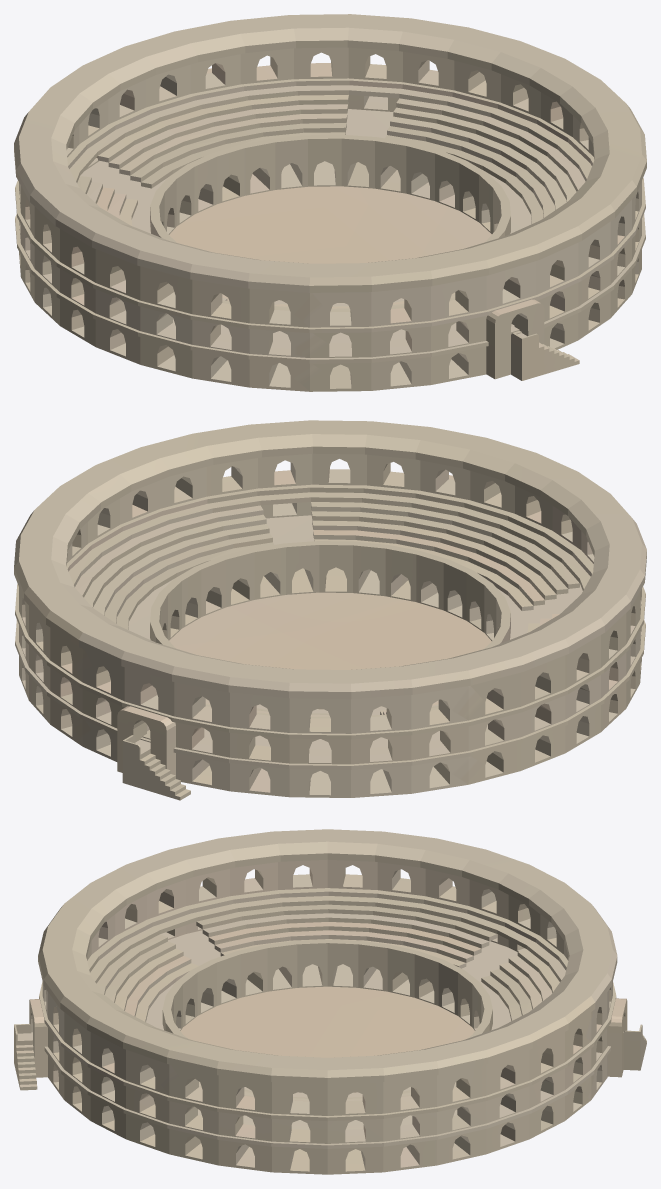
Rendered from colosseum.glb.
The picture shows the model from 3 angles, top to bottom: view 1: azimuth 30°, elevation 25°; view 2: azimuth 150°, elevation 25°; view 3: azimuth 270°, elevation 25°; orthographic projection. The views are drawn at different scales.
Parts seen in each view (by area): view 1: Coliseum; view 2: Coliseum; view 3: Coliseum.
Part boxes in pixels (box(x1,y1,x2,y2)): Coliseum: box(14, 14, 646, 391); Coliseum: box(14, 420, 646, 800); Coliseum: box(14, 829, 646, 1174).
Size of the model in its own units: 3.47 by 0.6921 by 3.79.
Materials: 1 (1 with a texture image).
